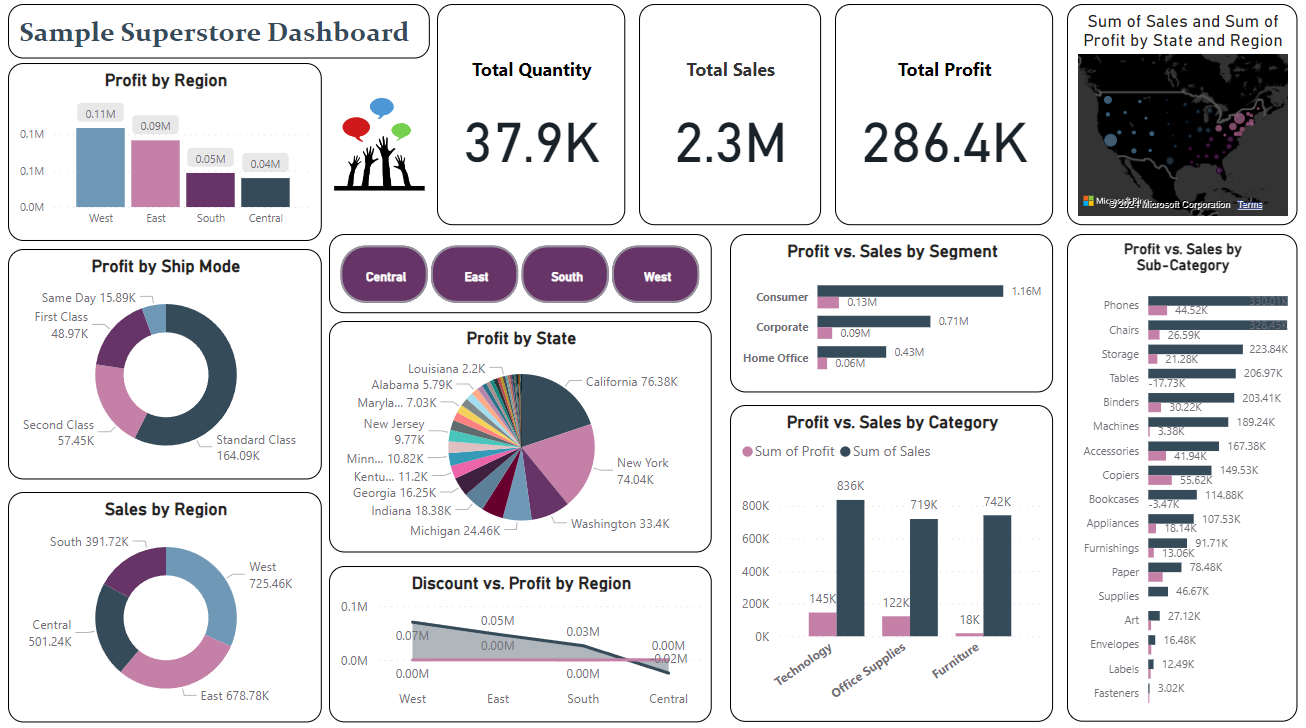

The page's visual inventory and layout, read from the dashboard file:
{"tool":"powerbi","page":{"name":"Page 1","canvas":[1280,720],"ordinal":0},"visuals":[{"type":"map","fields":{"Category":["SampleSuperstore.State"],"Size":["Sum(SampleSuperstore.Sales)"],"Series":["SampleSuperstore.Region"]},"box":[1041.9,9.7,223.5,214.8],"z":0},{"type":"clusteredBarChart","title":"Profit vs. Sales by Segment","fields":{"Category":["SampleSuperstore.Segment"],"Y":["Sum(SampleSuperstore.Sales)","Sum(SampleSuperstore.Profit)"]},"box":[714.4,233.3,313.9,153.6],"z":1000},{"type":"donutChart","title":"Sales by Region","fields":{"Y":["Sum(SampleSuperstore.Sales)"],"Category":["SampleSuperstore.Region"]},"box":[12.6,484,305.2,223.5],"z":2000},{"type":"actionButton","box":[0,0,100,40],"z":3000},{"type":"cardVisual","fields":{"Data":["Sum(SampleSuperstore.Sales)"]},"box":[625.9,9.7,176.9,214.8],"z":4000},{"type":"clusteredBarChart","title":"Profit vs. Sales by Sub-Category ","fields":{"Category":["SampleSuperstore.Sub-Category"],"Y":["Sum(SampleSuperstore.Sales)","Sum(SampleSuperstore.Profit)"]},"box":[1041.9,233.3,223.5,474.3],"z":5000},{"type":"areaChart","title":"Discount vs. Profit by Region","fields":{"Category":["SampleSuperstore.Region"],"Y":["Sum(SampleSuperstore.Profit Margin)","Sum(SampleSuperstore.Discount)"]},"box":[324.6,555.9,372.2,151.6],"z":6000},{"type":"pieChart","title":"Profit by State","fields":{"Y":["Sum(SampleSuperstore.Profit)"],"Category":["SampleSuperstore.State"]},"box":[324.6,317.8,372.2,224.5],"z":7000},{"type":"cardVisual","fields":{"Data":["Sum(SampleSuperstore.Quantity)"]},"box":[429.6,9.7,182.7,214.8],"z":8000},{"type":"donutChart","title":"Profit by Ship Mode","fields":{"Y":["Sum(SampleSuperstore.Profit)"],"Category":["SampleSuperstore.Ship Mode"]},"box":[12.6,247.8,305.2,223.5],"z":9000},{"type":"cardVisual","fields":{"Data":["Sum(SampleSuperstore.Profit)"]},"box":[816.4,9.7,211.9,214.8],"z":10000},{"type":"advancedSlicerVisual","fields":{"Values":["SampleSuperstore.Region"]},"box":[324.6,233.3,372.2,76.8],"z":11000},{"type":"columnChart","title":"Profit by Region","fields":{"Category":["SampleSuperstore.Region"],"Y":["Sum(SampleSuperstore.Profit)"],"Series":["SampleSuperstore.Region"]},"box":[12.6,67.1,305.2,173],"z":12000},{"type":"textbox","box":[12.6,9.7,410.1,53.5],"z":13000},{"type":"image","box":[324.6,67.1,98.2,157.4],"z":14000},{"type":"clusteredColumnChart","title":"Profit vs. Sales by Category","fields":{"Y":["Sum(SampleSuperstore.Profit)","Sum(SampleSuperstore.Sales)"],"Category":["SampleSuperstore.Category"]},"box":[714.4,399.5,313.9,308.1],"z":15000}]}

Visuals, with their boxes in screenshot pixels (x1, y1, x2, y2), scaled from the page's 1280x720 canvas onto the 1306x728 screenshot:
map - SampleSuperstore.State x Sum(SampleSuperstore.Sales): (1063,10,1291,227)
"Profit vs. Sales by Segment" clusteredBarChart: (729,236,1049,391)
"Sales by Region" donutChart: (13,489,324,715)
actionButton: (0,0,102,40)
cardVisual - Sum(SampleSuperstore.Sales): (639,10,819,227)
"Profit vs. Sales by Sub-Category " clusteredBarChart: (1063,236,1291,715)
"Discount vs. Profit by Region" areaChart: (331,562,711,715)
"Profit by State" pieChart: (331,321,711,548)
cardVisual - Sum(SampleSuperstore.Quantity): (438,10,625,227)
"Profit by Ship Mode" donutChart: (13,251,324,477)
cardVisual - Sum(SampleSuperstore.Profit): (833,10,1049,227)
advancedSlicerVisual - SampleSuperstore.Region: (331,236,711,314)
"Profit by Region" columnChart: (13,68,324,243)
textbox: (13,10,431,64)
image: (331,68,431,227)
"Profit vs. Sales by Category" clusteredColumnChart: (729,404,1049,715)
